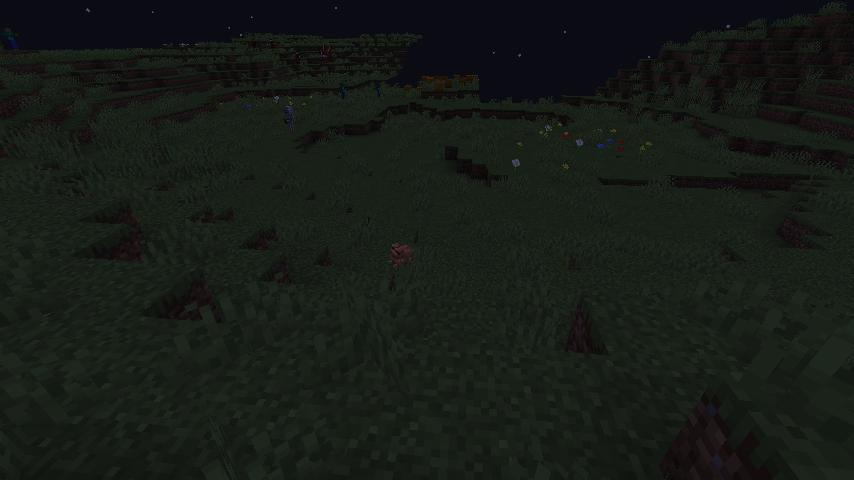frog: (385, 241, 416, 272)
skeleton: (279, 102, 299, 134)
zombie: (338, 81, 349, 102), (374, 80, 384, 101)
